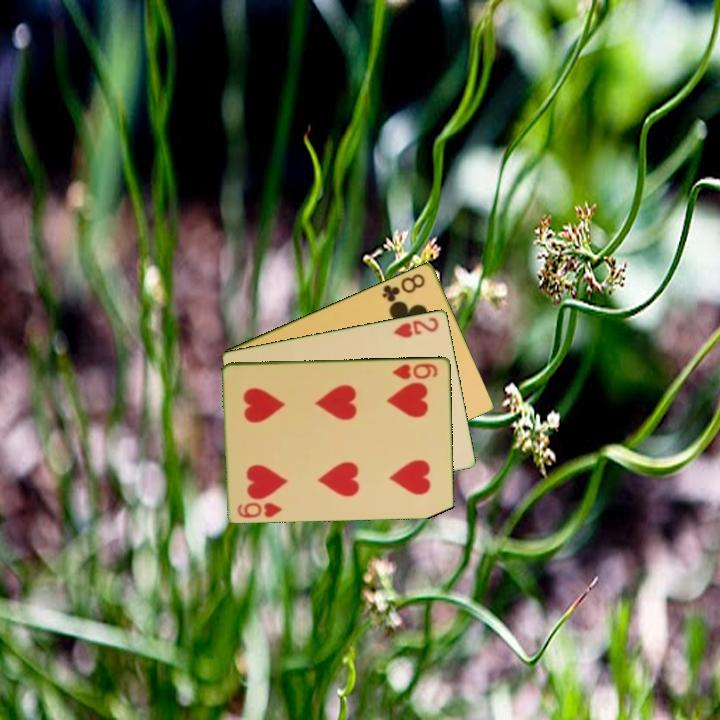2h: (390, 313, 442, 340)
6h: (389, 359, 441, 381), (234, 499, 285, 520)
8c: (378, 269, 428, 305)
